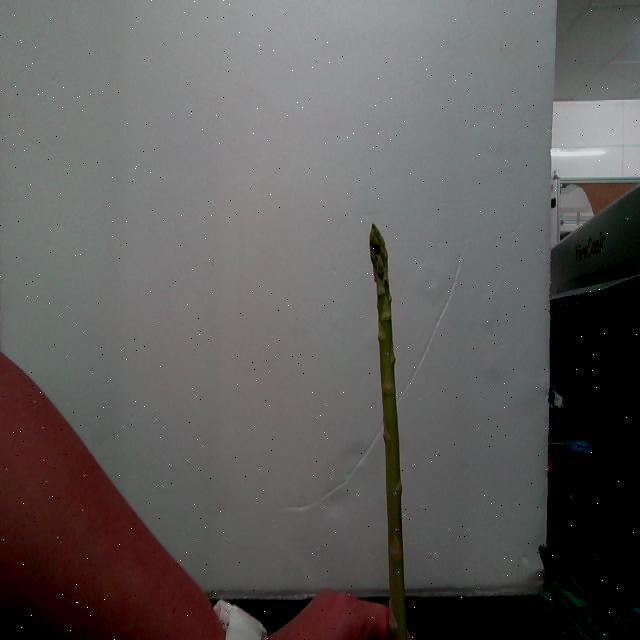aspargus: (367, 226, 410, 640)
